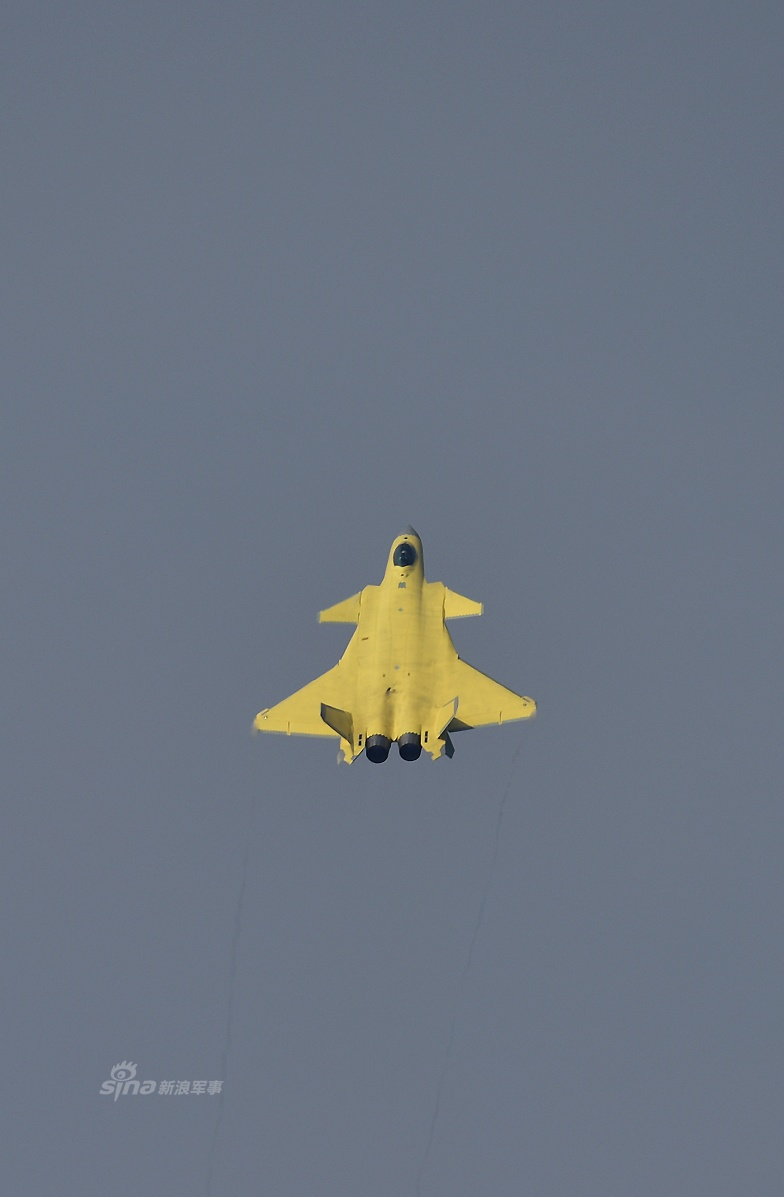J20: (251, 523, 537, 766)
